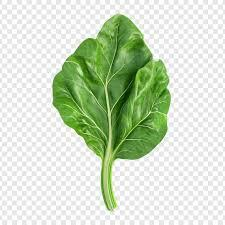non-mango: (51, 12, 171, 211)
